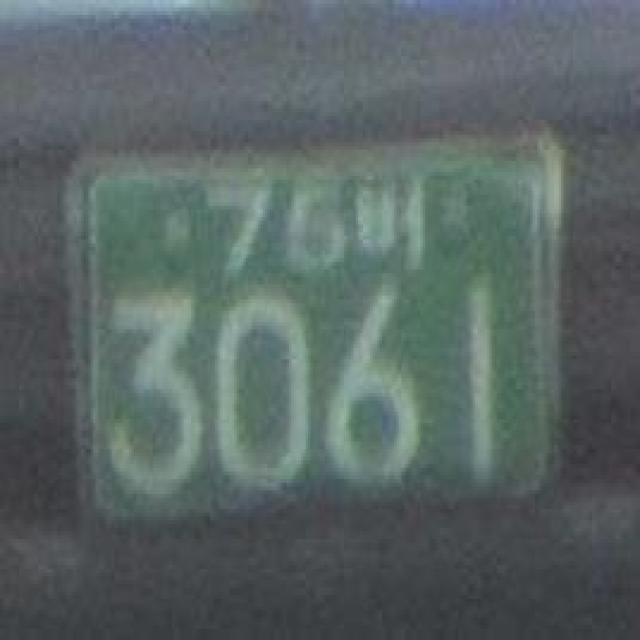illegal_plate: (59, 118, 576, 550)
